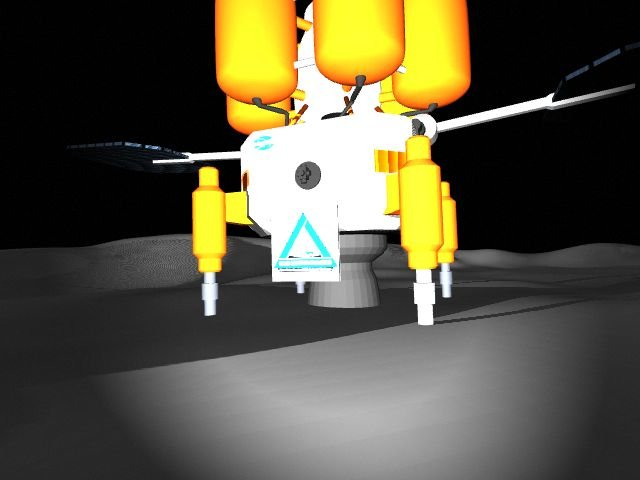basemarker: (274, 211, 338, 273)
